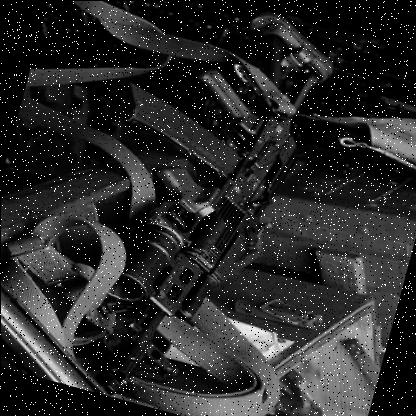rifle: (50, 0, 331, 409)
